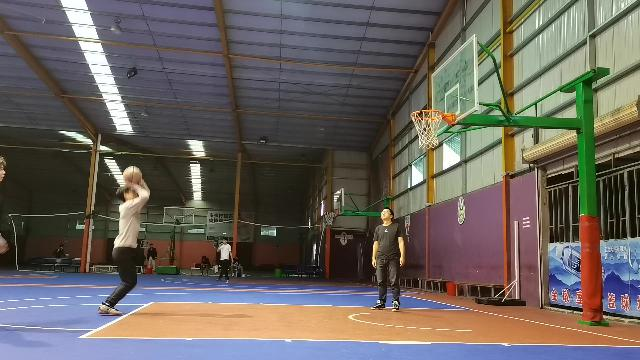ball: (122, 166, 142, 182)
basket: (409, 108, 445, 148), (324, 210, 334, 224)
